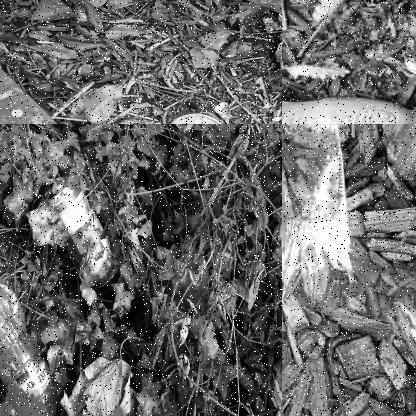metal: (47, 180, 122, 287)
plastic: (282, 124, 359, 306), (0, 280, 56, 388), (282, 92, 415, 123), (174, 253, 205, 367), (168, 108, 229, 123)
